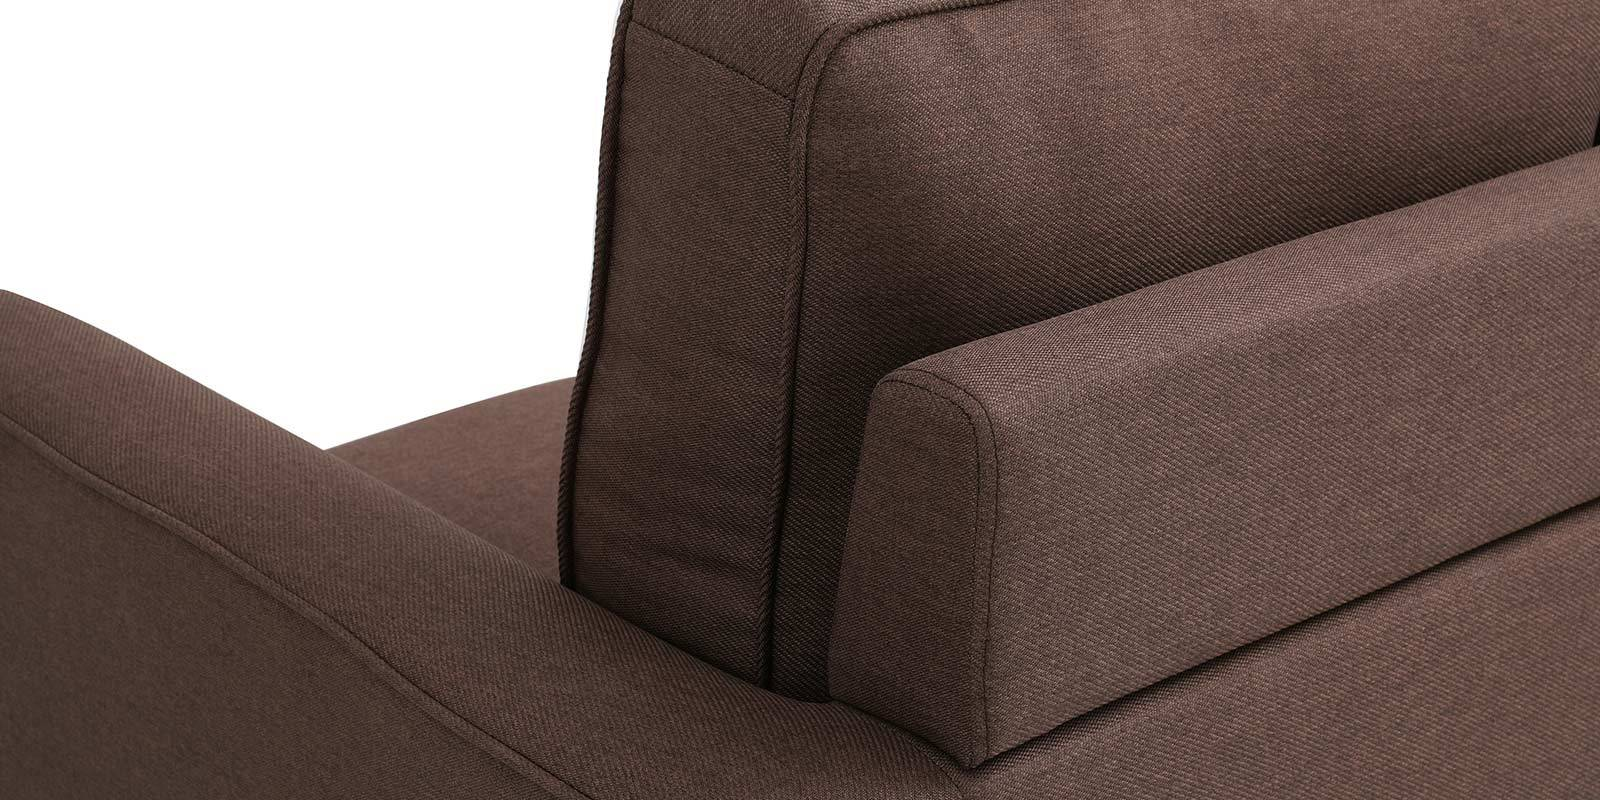Alice Three Seater Sofa in Brown Colour by Zofa: (1, 9, 1597, 800)
